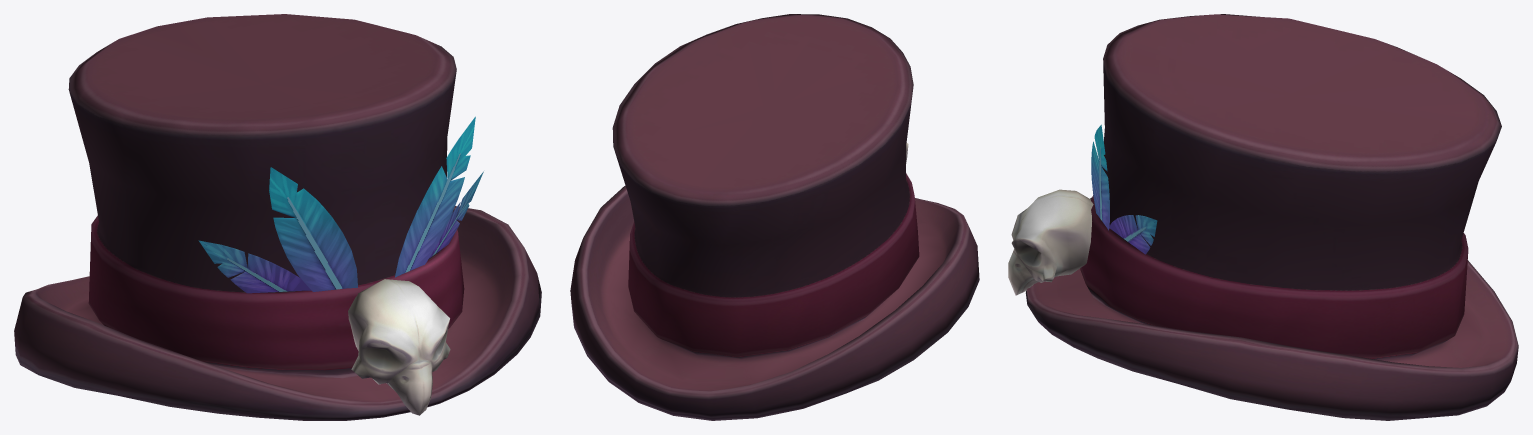
The model's file is headwear-halloween-06.glb.
The picture shows the model from 3 angles, left to right: view 1: azimuth 30°, elevation 25°; view 2: azimuth 150°, elevation 25°; view 3: azimuth 270°, elevation 25°; orthographic projection. The views are drawn at different scales.
Parts seen in each view (by area): view 1: Wolf3D_Headwear; view 2: Wolf3D_Headwear; view 3: Wolf3D_Headwear.
Boxes of the visible parts, bbox=[...] form: Wolf3D_Headwear: bbox=[14, 14, 541, 420]; Wolf3D_Headwear: bbox=[570, 14, 979, 420]; Wolf3D_Headwear: bbox=[1008, 14, 1518, 420].
Size of the model in its own units: 0.268 by 0.1956 by 0.2829.
Materials: 1 (1 with a texture image).
